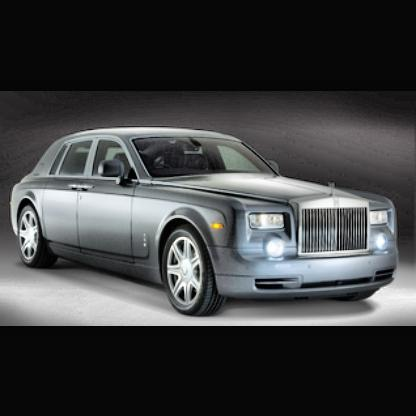Rolls-Royce Phantom Sedan 2012: (7, 113, 413, 319)
